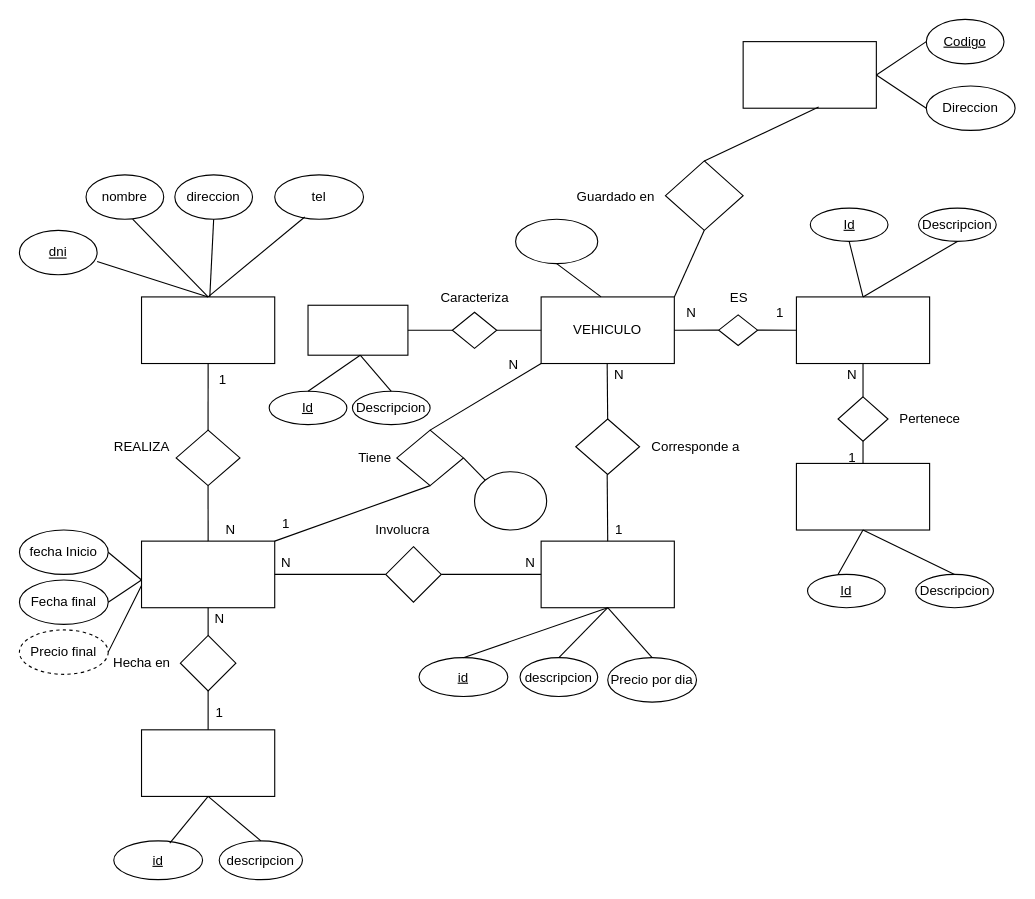
The diagram is 1035 pixels wide and 899 high, and some of its shapes have lost their labels. The shapes that lost their labels are listed below. From the top down, each one's centre as x and y in pixels, then its label:
At point 809,74: "GARAGE".
At point 556,241: "patente".
At point 207,330: "CLIENTE".
At point 357,329: "COLOR".
At point 862,330: "MODELO".
At point 510,500: "Litros de Nafta".
At point 862,496: "MARCA".
At point 207,574: "RESERVA".
At point 607,574: "TIPO VEHICULO".
At point 207,762: "AGENCIA".
